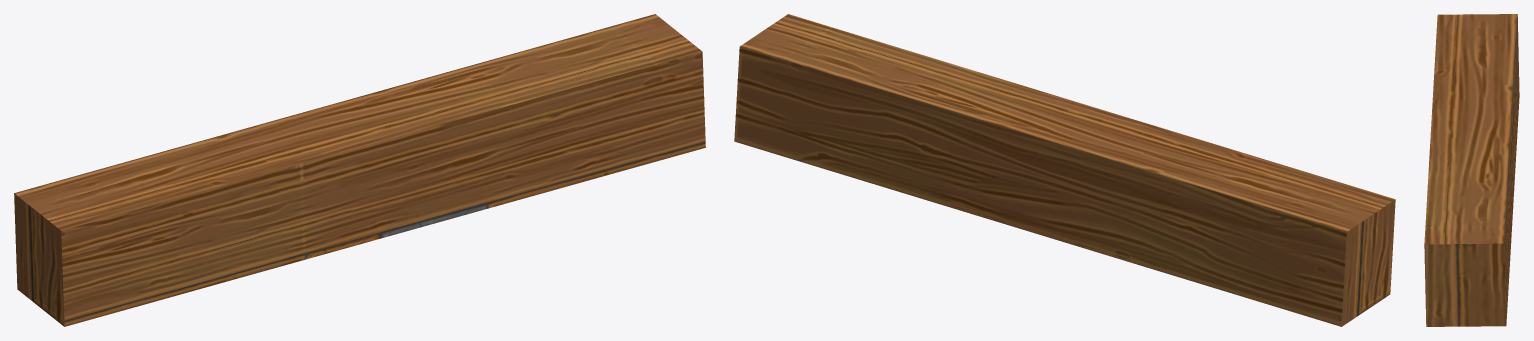
3 renders of one model, left to right at view 1: azimuth 30°, elevation 25°; view 2: azimuth 150°, elevation 25°; view 3: azimuth 270°, elevation 25°, orthographic. The views are drawn at different scales.
Visible parts, largest first — view 1: Cube.576; view 2: Cube.576; view 3: Cube.576.
Boxes of the visible parts, left/top/right/bottom form: Cube.576: left=14, top=14, right=705, bottom=326; Cube.576: left=734, top=14, right=1395, bottom=326; Cube.576: left=1424, top=14, right=1519, bottom=326.
Bounding box in the file's own units: 223 × 43.33 × 34.82.
1 material, 1 textured.
